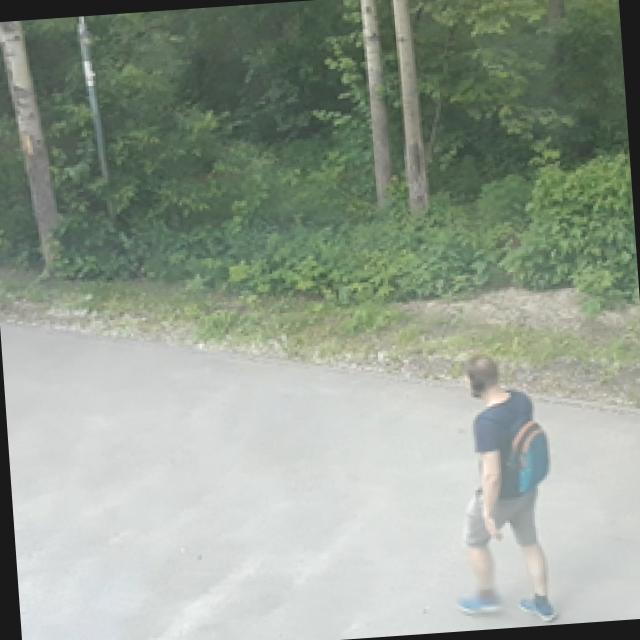person: (441, 352, 562, 626)
